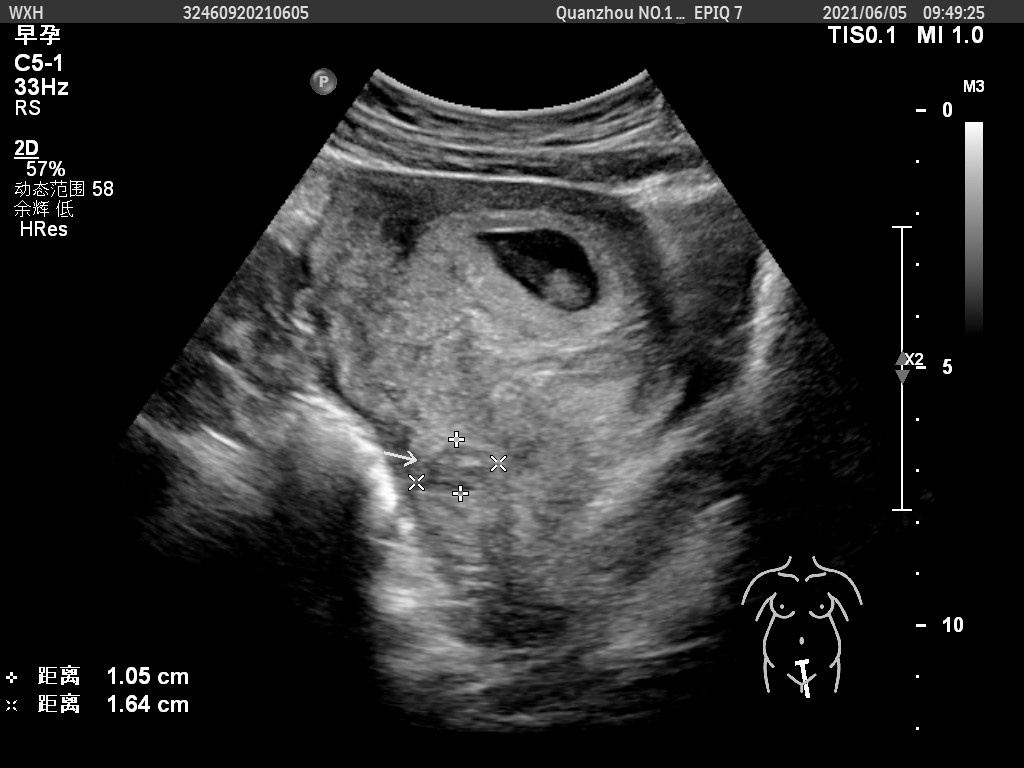肌瘤: (415, 440, 502, 489)
